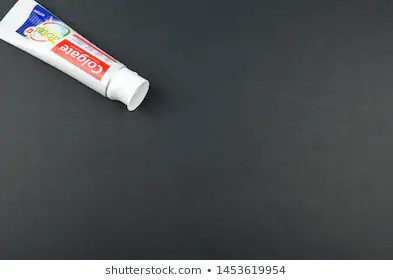colgate-total-150gm: (1, 3, 156, 116)
